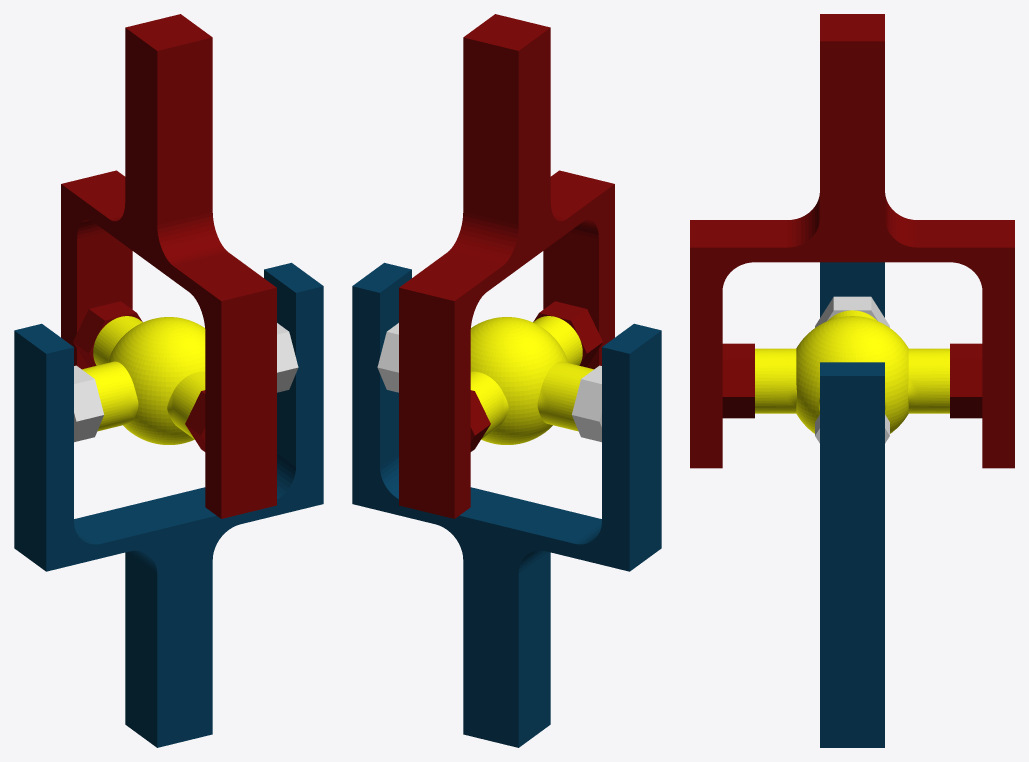
The model's file is UJ-ASSY.glb.
The picture shows the model from 3 angles, left to right: view 1: azimuth 30°, elevation 25°; view 2: azimuth 150°, elevation 25°; view 3: azimuth 270°, elevation 25°; orthographic projection.
Visible parts, largest first — view 1: ASCII (×7); view 2: ASCII (×7); view 3: ASCII (×6).
Part boxes in pixels (x1,y1,x2,y2): ASCII (×7): (14, 14, 323, 747); ASCII (×7): (352, 14, 661, 747); ASCII (×6): (690, 14, 1014, 747).
Size of the model in its own units: 0.005 by 0.012 by 0.005.
